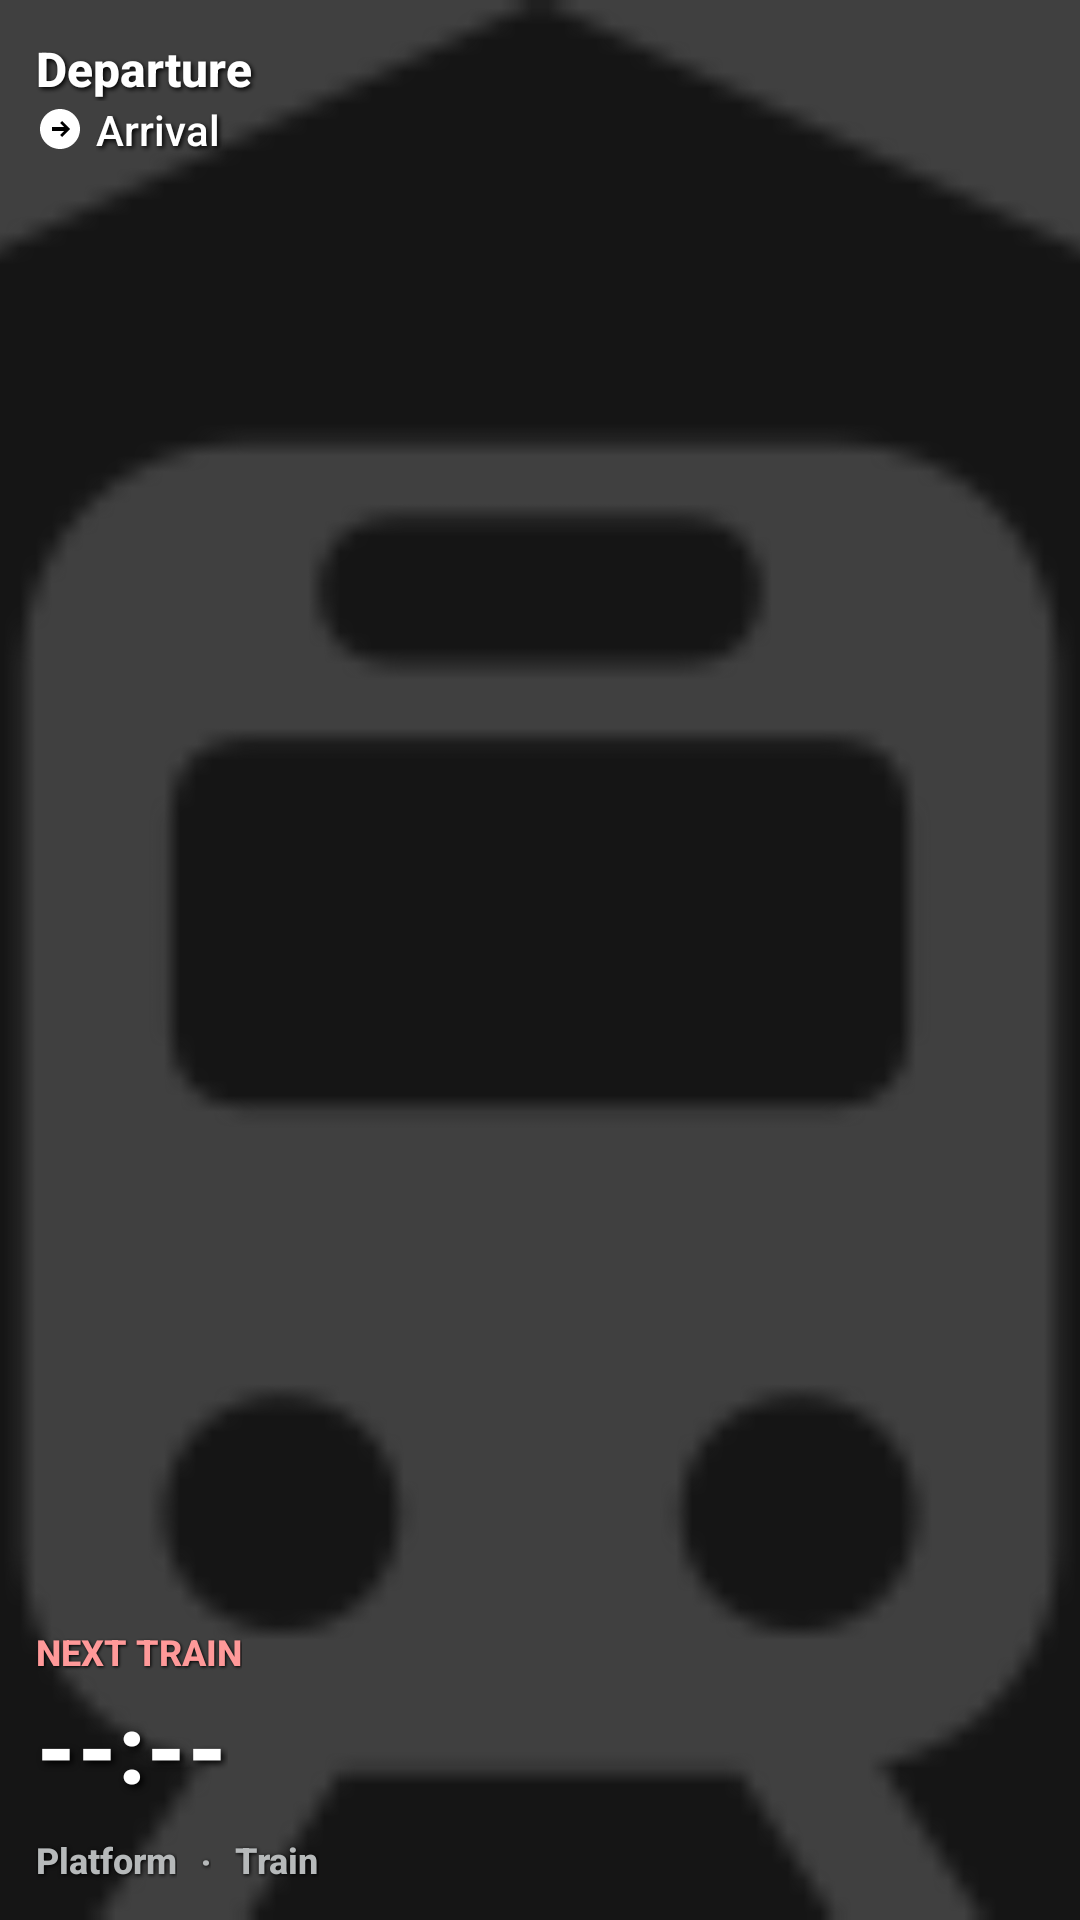

Icons on this 1080x1920 Android screen, each with its box as (x1, y1, x2, y2):
Arrow to destination: (40, 109, 80, 149)
